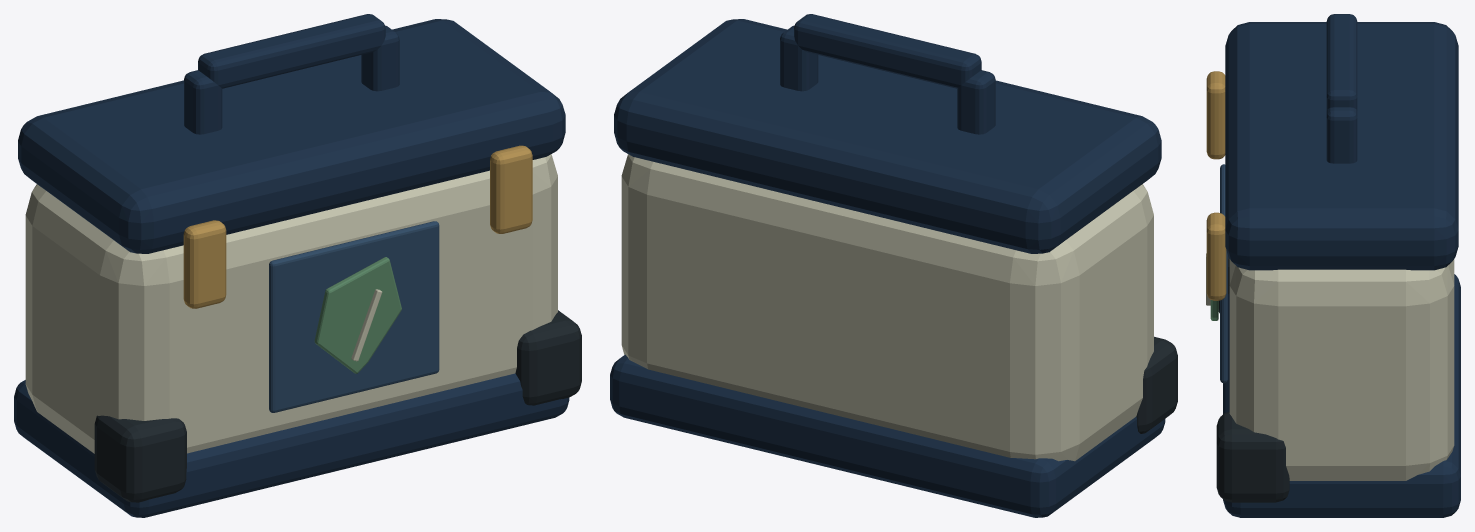
The model's file is MEDIC_CASE.hi.glb.
The picture shows the model from 3 angles, left to right: view 1: azimuth 30°, elevation 25°; view 2: azimuth 150°, elevation 25°; view 3: azimuth 270°, elevation 25°; orthographic projection. The views are drawn at different scales.
Parts seen in each view (by area): view 1: Body_Mesh; view 2: Body_Mesh; view 3: Body_Mesh.
Part boxes in pixels (left/top/right/bottom): Body_Mesh: left=14, top=14, right=581, bottom=517; Body_Mesh: left=610, top=14, right=1177, bottom=517; Body_Mesh: left=1206, top=14, right=1460, bottom=517.
Size of the model in its own units: 1.14 by 0.925 by 0.5786.
